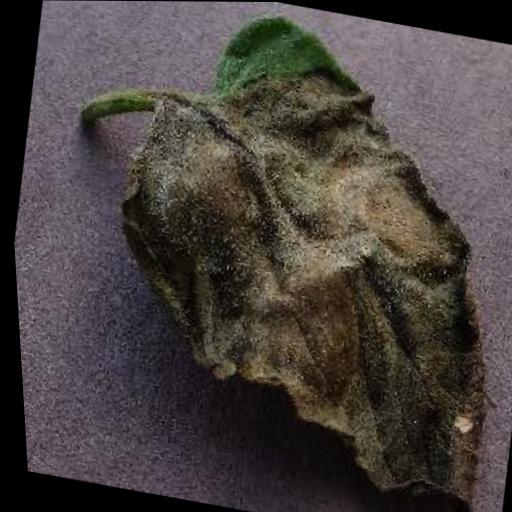Late Blight: (56, 0, 512, 512)
